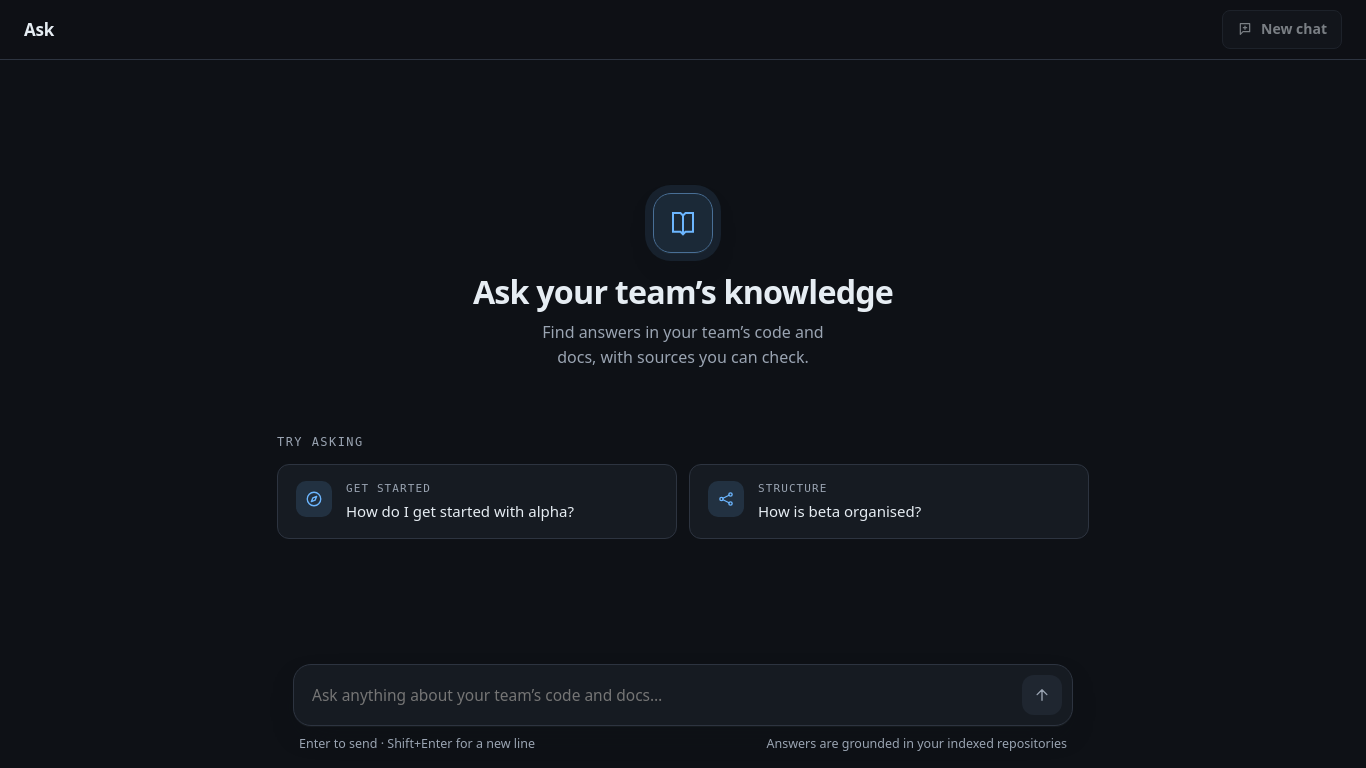
Test case: Ask as a chat thread › asks a suggestion when its card is clicked
Click the button "Structure How is beta organised?": (889, 502) [689,464,1089,539]
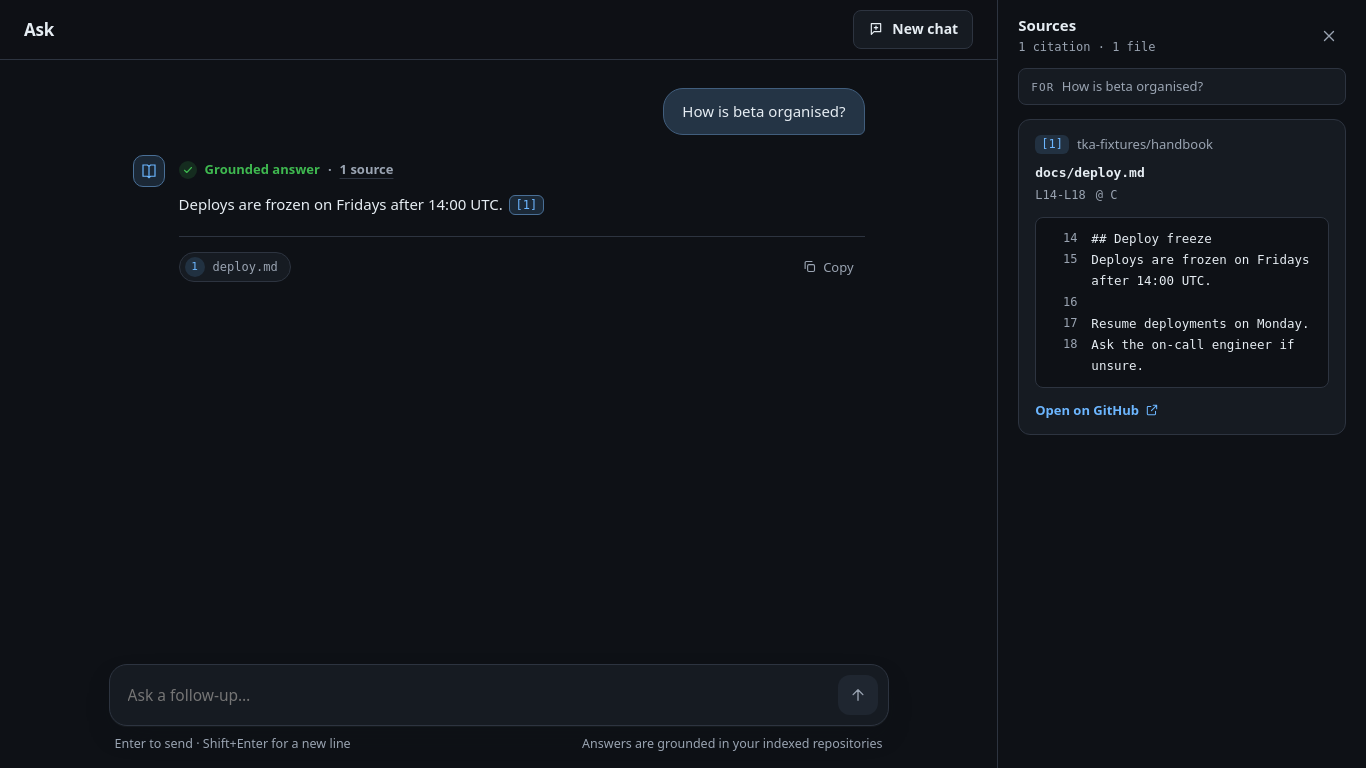
Expected: the button named "Show citation 1" is shown, [509,195,544,215]
